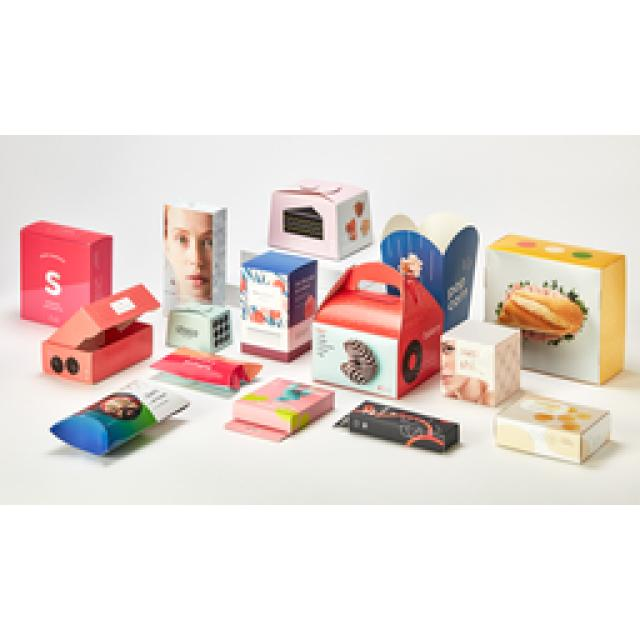cardboard: (241, 179, 627, 406), (21, 220, 160, 384), (151, 199, 262, 388), (50, 381, 189, 454), (498, 395, 610, 462), (228, 378, 334, 441), (336, 401, 460, 452)
